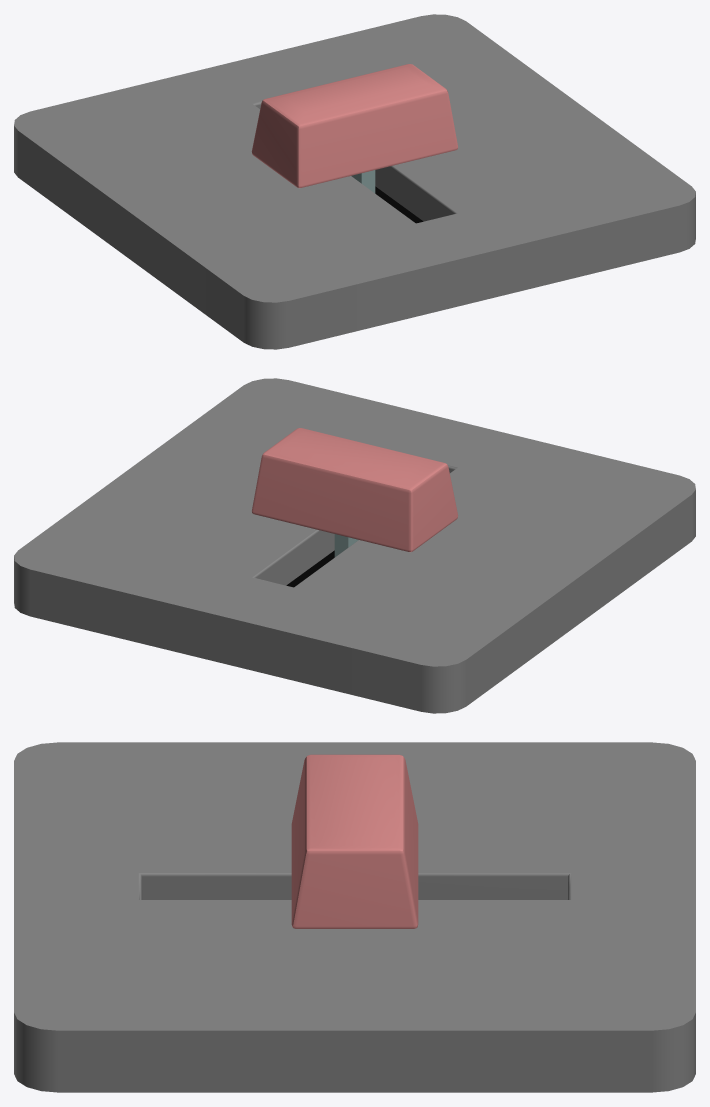
Rendered from Slider.fbx.
3 views of the same model, one above another, from view 1: azimuth 30°, elevation 25°; view 2: azimuth 150°, elevation 25°; view 3: azimuth 270°, elevation 25° (orthographic). The views are drawn at different scales.
Visible parts, largest first — view 1: SliderPlate, Slider; view 2: SliderPlate, Slider; view 3: SliderPlate, Slider.
Part boxes in pixels (x1,y1,x2,y2): SliderPlate: (14, 14, 695, 349); Slider: (251, 64, 457, 193); SliderPlate: (14, 378, 695, 713); Slider: (252, 428, 458, 557); SliderPlate: (14, 742, 695, 1092); Slider: (291, 754, 418, 928).
Size of the model in its own units: 12.76 by 3.83 by 12.76.
